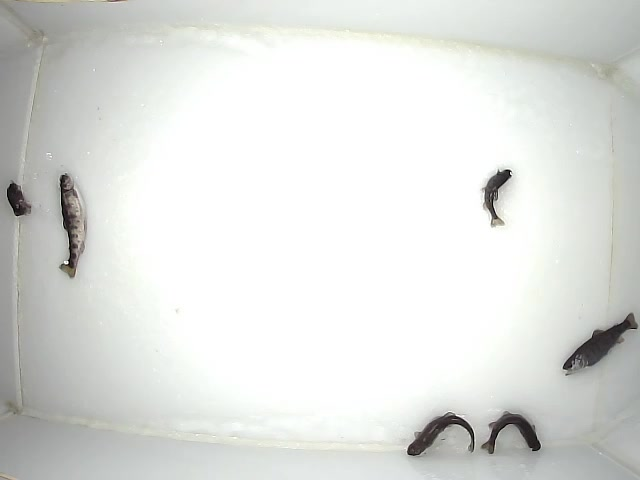fish: (559, 310, 638, 375), (55, 173, 89, 279), (404, 411, 476, 460), (478, 410, 548, 455), (478, 168, 515, 229), (6, 181, 30, 217)
